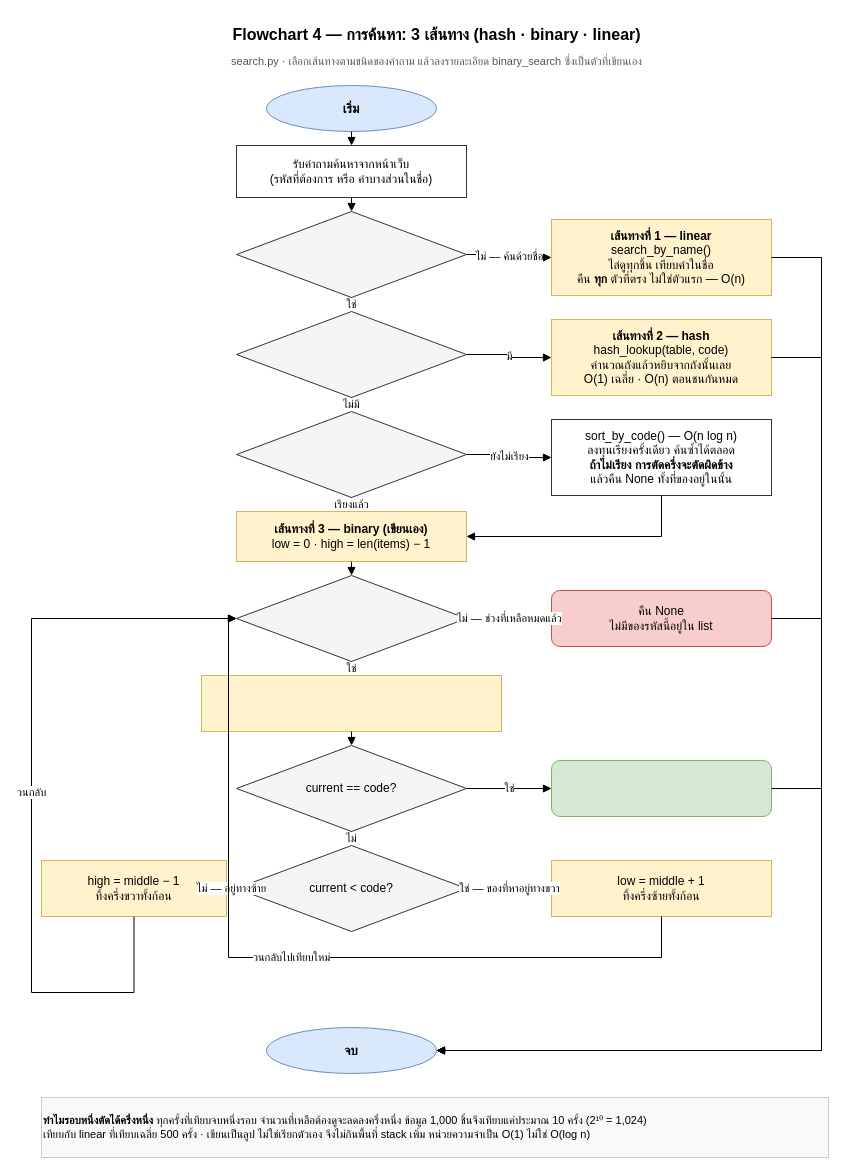
Image size: 847x1175. Some labels were removed from this diagram. The shapes that lost their labels are listed below. From the top down, each one's box as (x1, y1, x2, y2) in pixels, then its label:
(236, 210, 466, 298): ค้นด้วยรหัส ที่ตรงเป๊ะ?
(236, 310, 466, 398): มีตารางแฮช พร้อมใช้?
(236, 410, 466, 498): list เรียงตาม รหัสแล้ว?
(236, 574, 466, 662): low ≤ high?
(200, 674, 502, 732): middle = low + (high − low) // 2 current = items[middle]["code"]
(550, 760, 772, 816): คืน items[middle] เจอแล้ว
